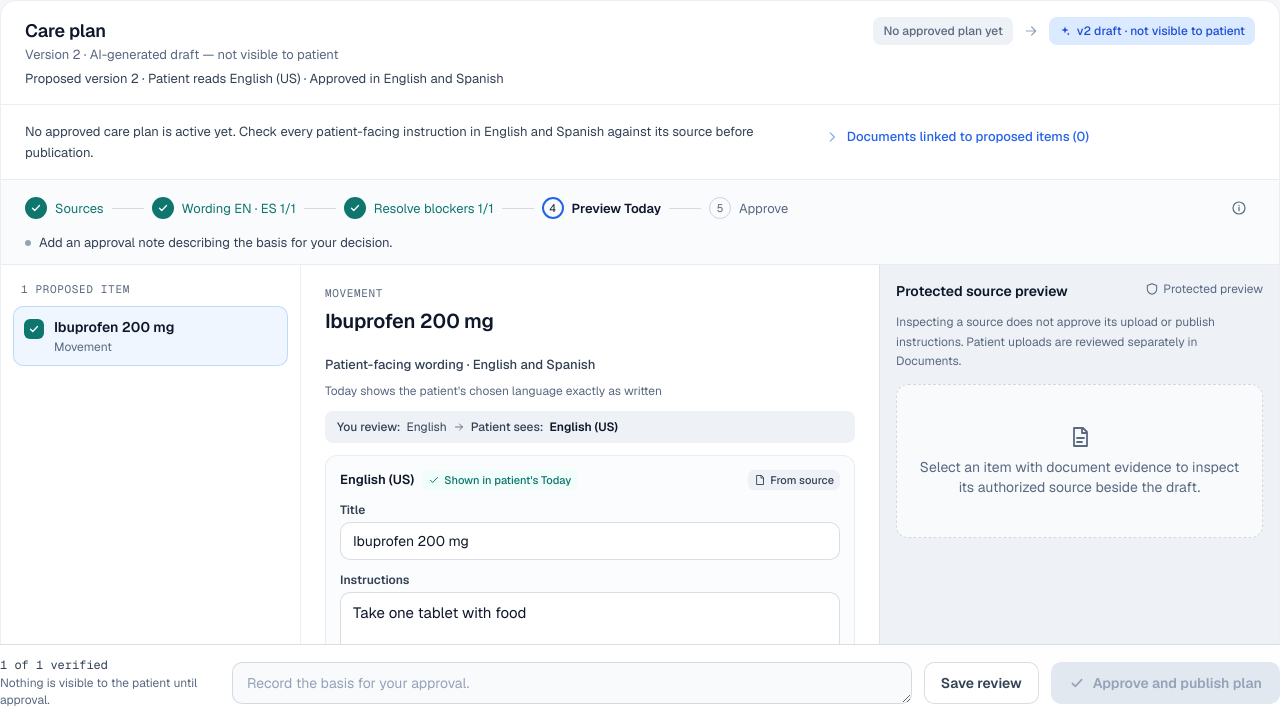
cross-plan conflicts in the care-plan draft review › lets the card collapse and expand
In the text box with placeholder "Record the basis for your approval.": (572,682) [232, 662, 912, 704], type "Reviewed against sources"
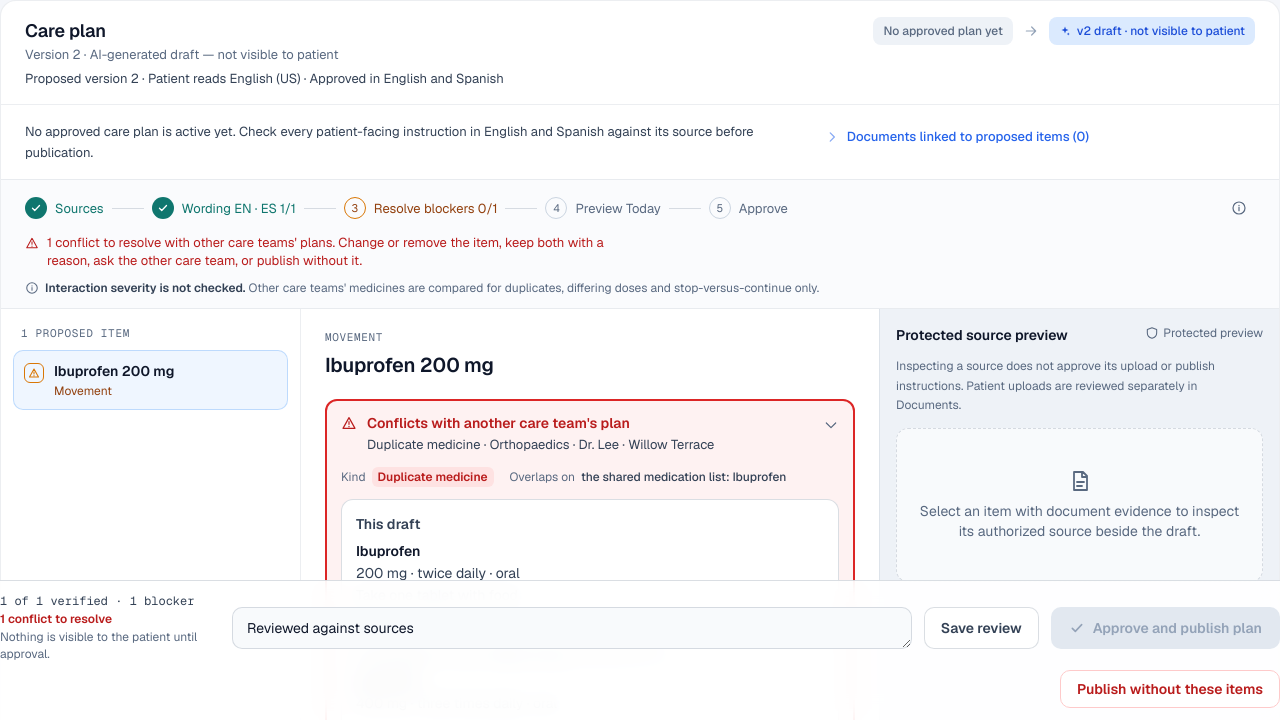
Click the button "Conflicts with another care team": (590,434) [327, 401, 853, 466]
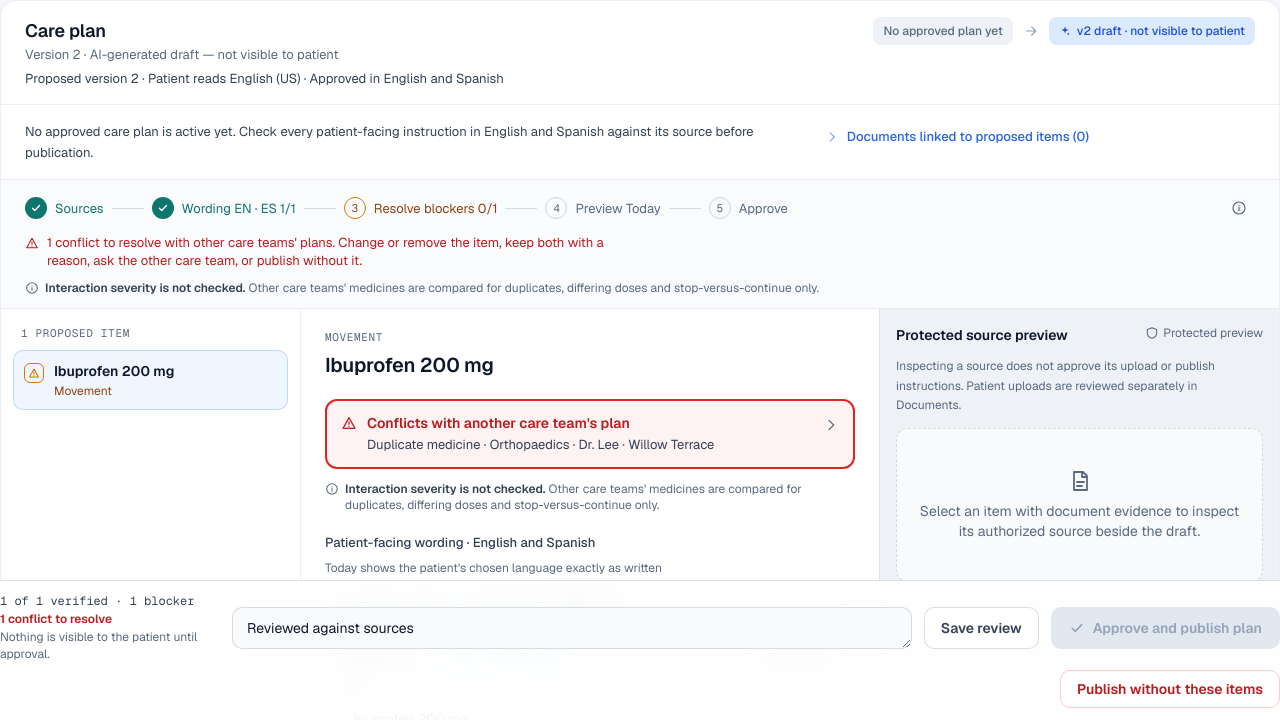
expect the heading "This draft" is gone: met
